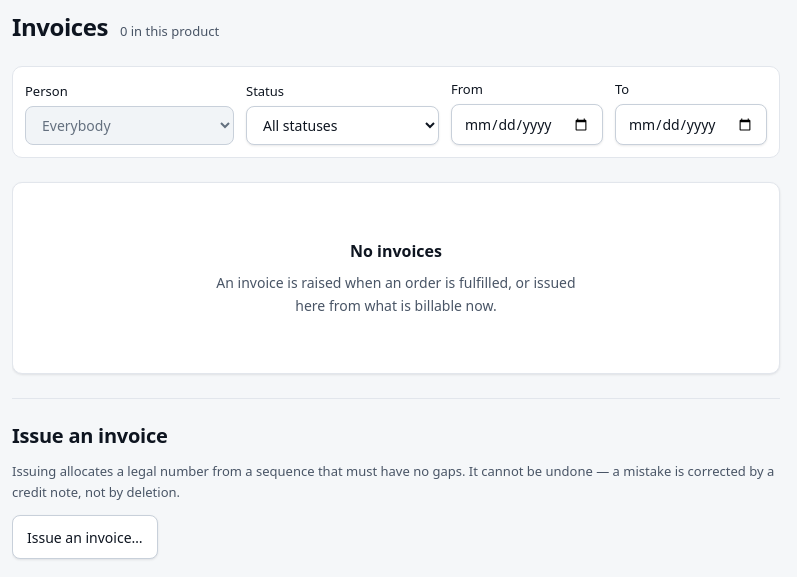
the filter above the list › counts a window as a filter, so an empty page says it is the filter's
In the date field with test id "filter-from": (527, 124) [451,104,603,145], type "2026-09-01"
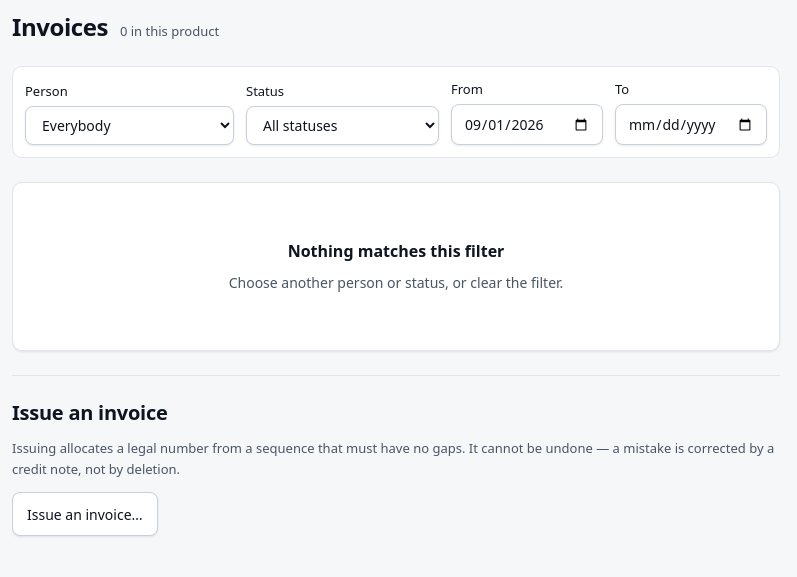
expect the text "Nothing matches this filter" is shown: met, box [288,239,504,263]
